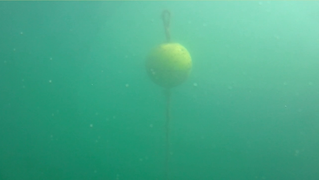buoy: (145, 40, 192, 87)
